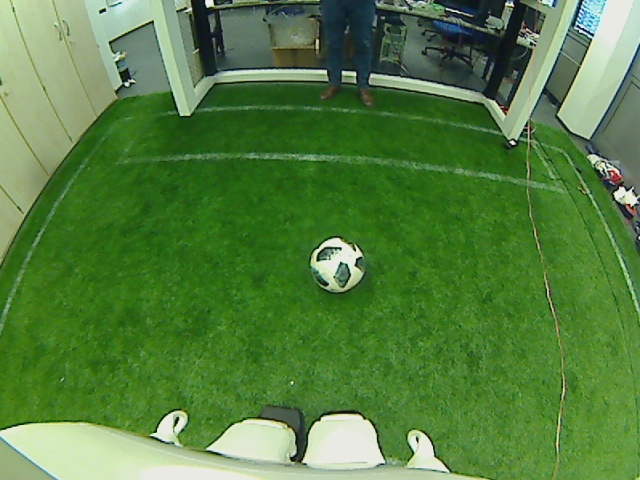ball: (309, 236, 366, 294)
